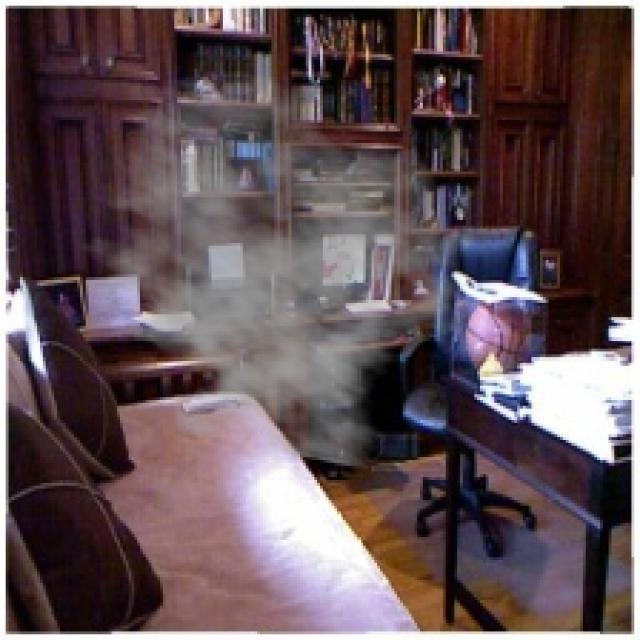smoke: (60, 69, 483, 472)
